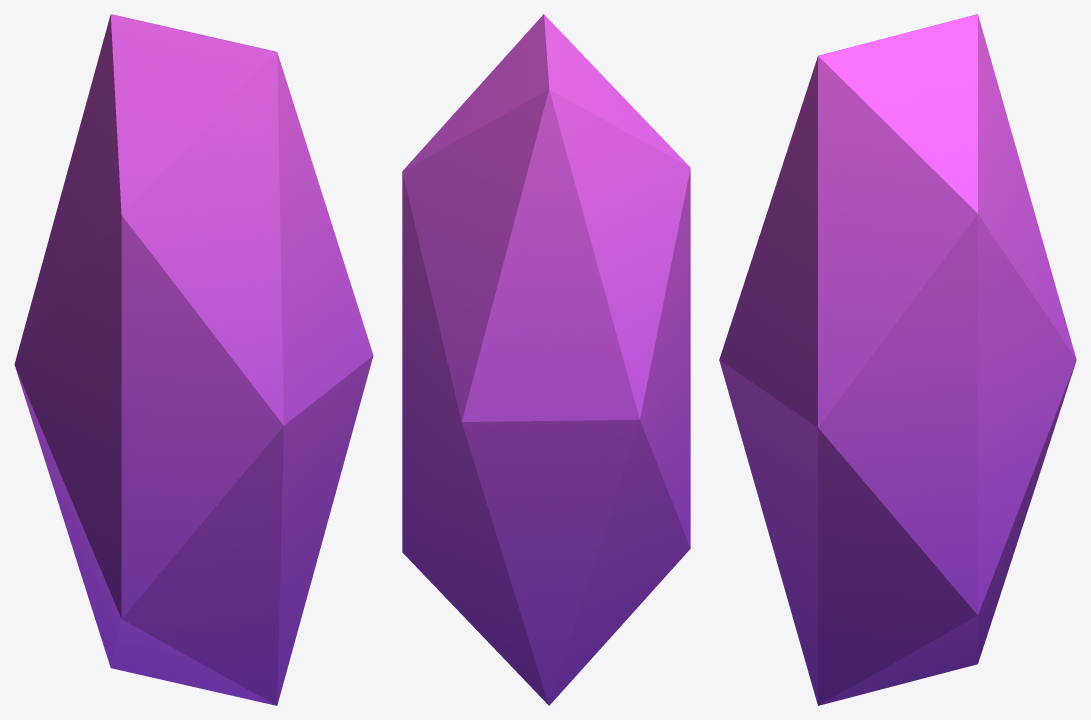
The model's file is crystal_03.fbx.
3 renders of one model, left to right at view 1: azimuth 30°, elevation 25°; view 2: azimuth 150°, elevation 25°; view 3: azimuth 270°, elevation 25°, orthographic. The views are drawn at different scales.
Visible parts, largest first — view 1: crystal1; view 2: crystal1; view 3: crystal1.
Part boxes in pixels (<box>): crystal1: <box>14,14,373,705</box>; crystal1: <box>402,14,690,705</box>; crystal1: <box>719,14,1076,705</box>.
Size of the model in its own units: 0.5786 by 1.3 by 0.6469.
